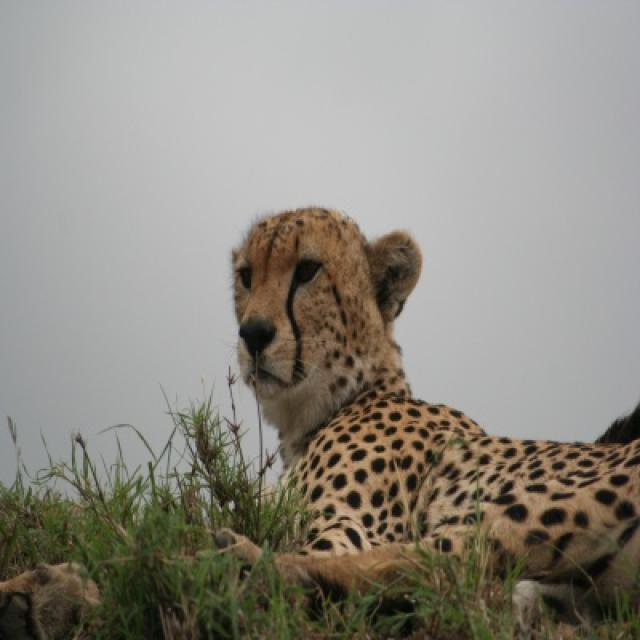Cheetah: (228, 211, 635, 617)
